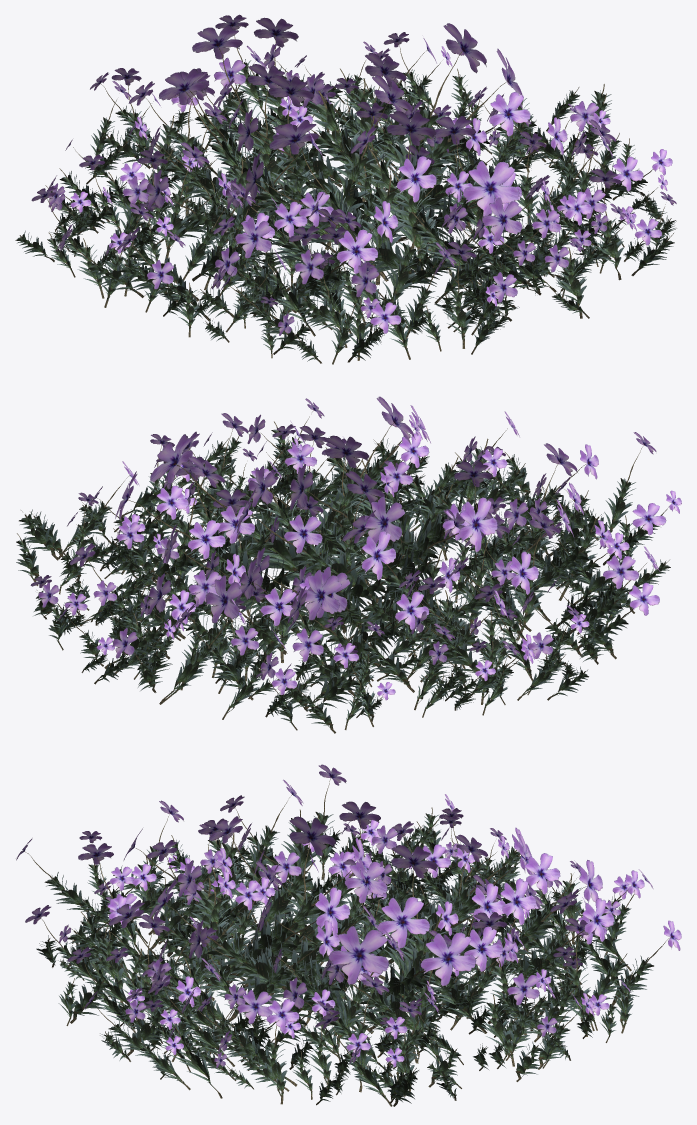
File: floresmoradas.glb
The picture shows the model from 3 angles, top to bottom: view 1: azimuth 30°, elevation 25°; view 2: azimuth 150°, elevation 25°; view 3: azimuth 270°, elevation 25°; orthographic projection. The views are drawn at different scales.
Visible parts, largest first — view 1: Blanket Phlox_1; view 2: Blanket Phlox_1; view 3: Blanket Phlox_1.
Part boxes in pixels (x1,y1,x2,y2): Blanket Phlox_1: (15,14,676,364); Blanket Phlox_1: (16,396,681,733); Blanket Phlox_1: (16,764,681,1106).
Bounding box in the file's own units: 1.12 × 0.264 × 1.14.
1 material, 1 textured.
